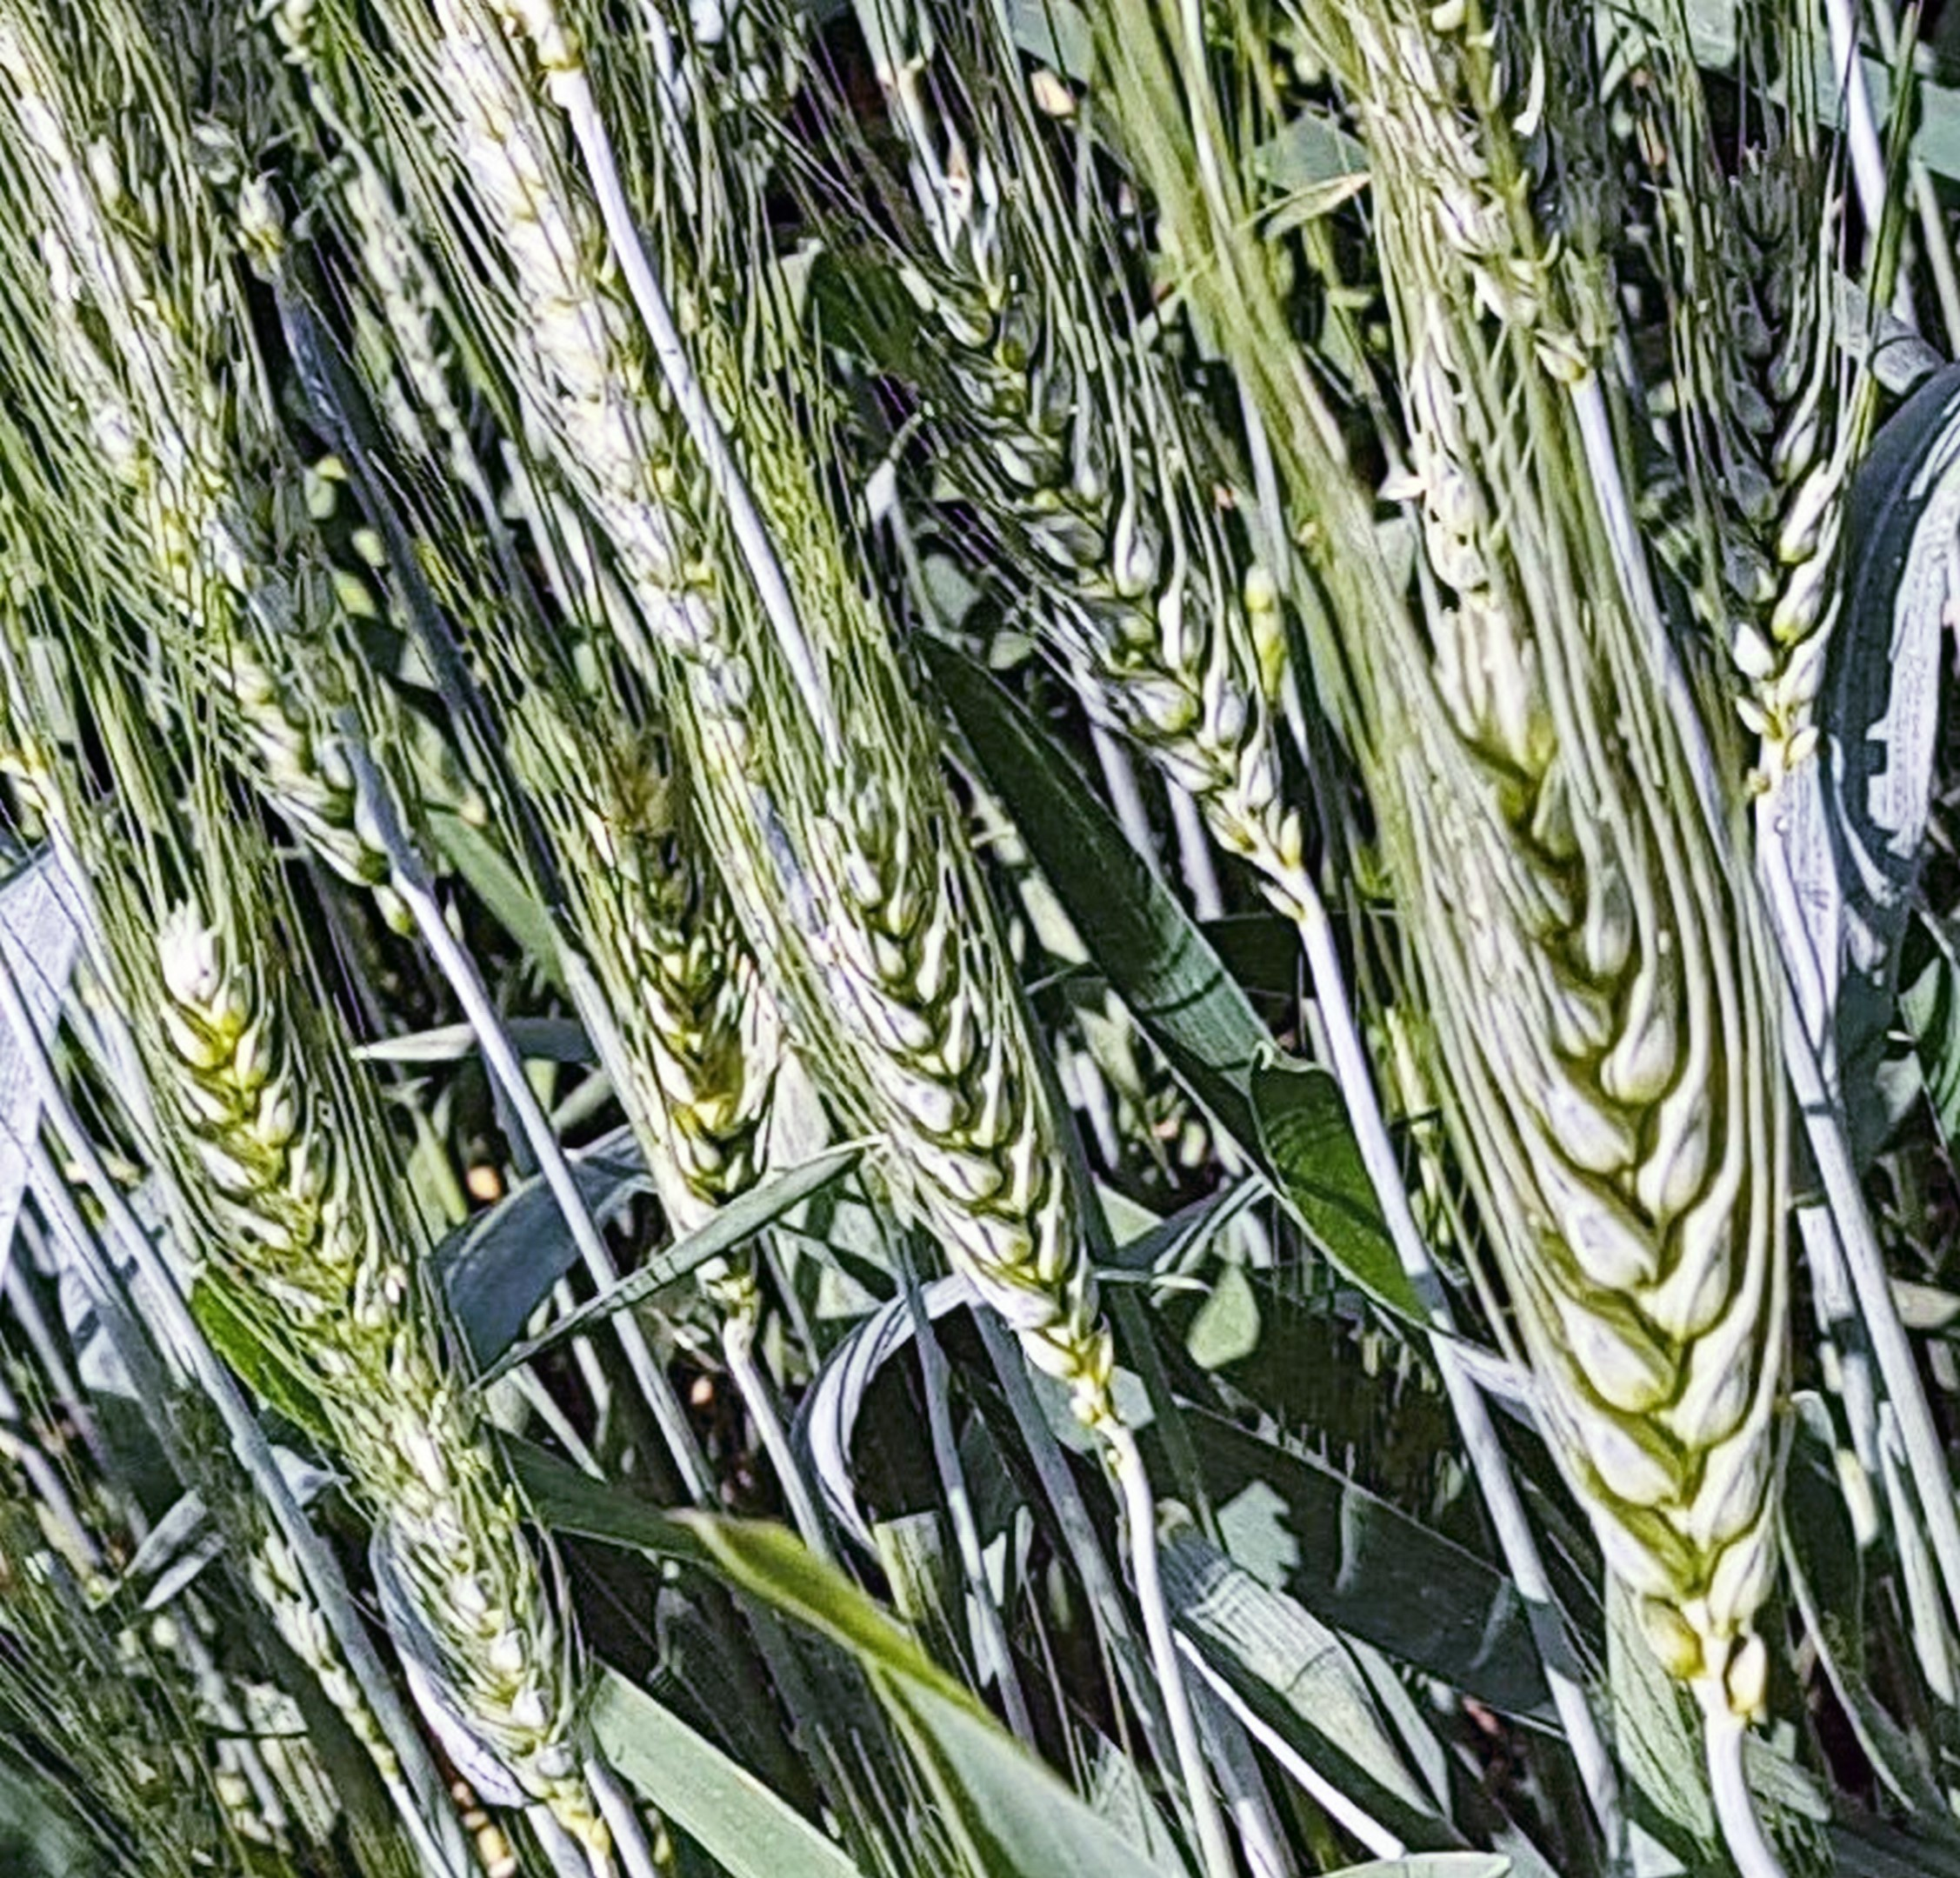Healthy Wheat: (1475, 669, 1867, 1692), (166, 905, 607, 1754), (807, 763, 1192, 1432)
